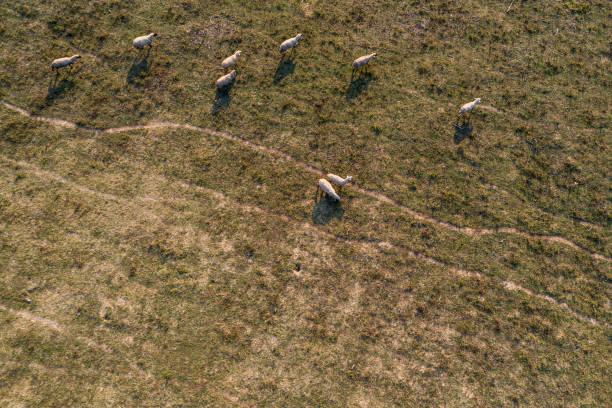sheep: (277, 31, 309, 56), (350, 51, 380, 75), (47, 54, 84, 73), (130, 32, 161, 53), (318, 179, 344, 204), (214, 68, 241, 92), (458, 95, 484, 119), (221, 51, 246, 75), (328, 170, 354, 190)
